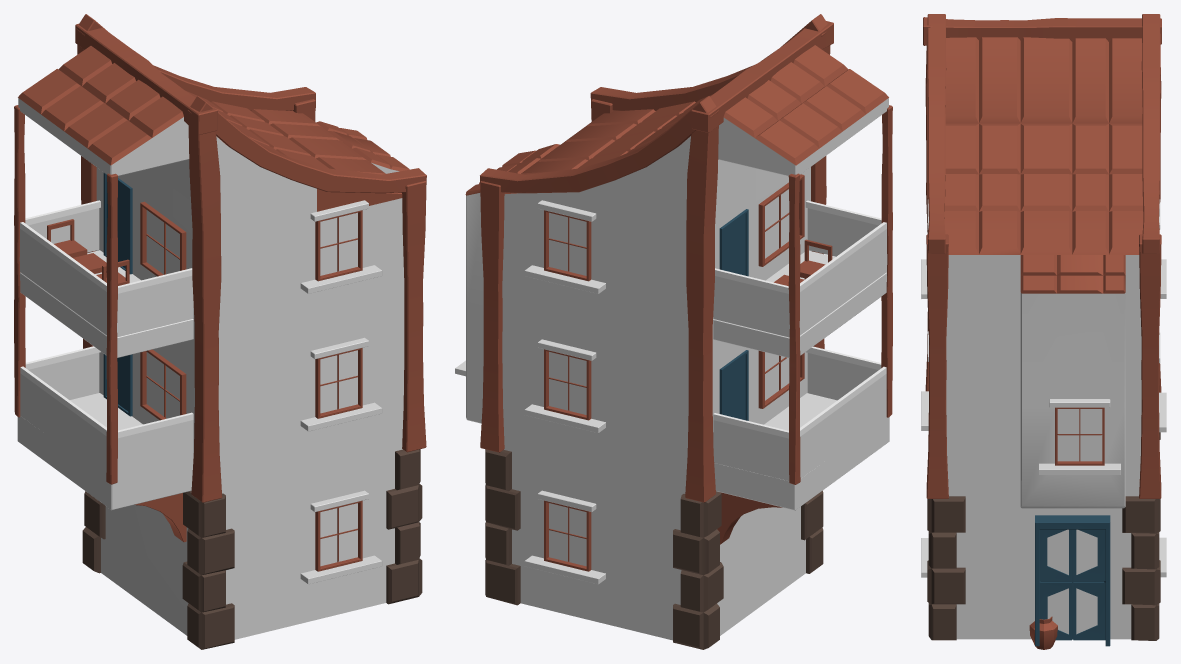
Rendered from house1_version3.fbx.
3 views of the same model, side by side, from view 1: azimuth 30°, elevation 25°; view 2: azimuth 150°, elevation 25°; view 3: azimuth 270°, elevation 25° (orthographic). The views are drawn at different scales.
Visible parts, largest first — view 1: house_combined.061, prop_stuhl1; view 2: house_combined.061; view 3: house_combined.061, prop_vase4.
Boxes of the visible parts, x1,y1,x2,y2 form: house_combined.061: (14, 14, 426, 649); prop_stuhl1: (47, 219, 87, 257); house_combined.061: (455, 14, 892, 649); house_combined.061: (921, 14, 1166, 646); prop_vase4: (1029, 616, 1057, 649).
Bounding box in the file's own units: 715 × 1084 × 453.
